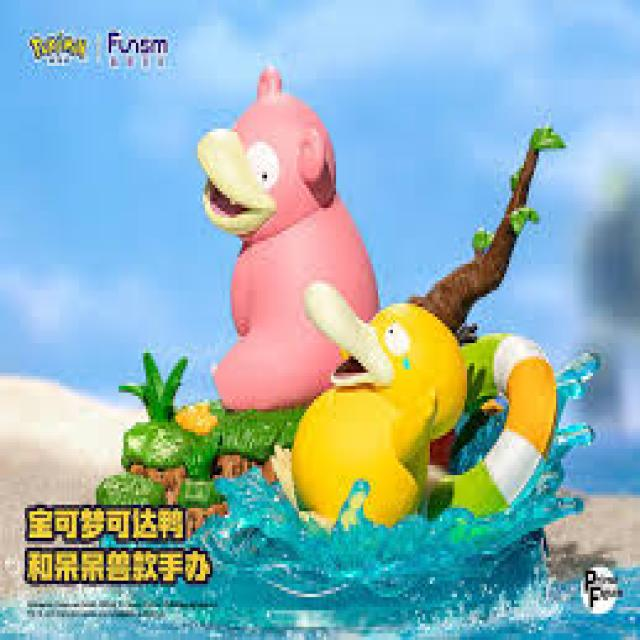Psyduck: (292, 290, 465, 521)
Slowpoke: (204, 96, 336, 405)
